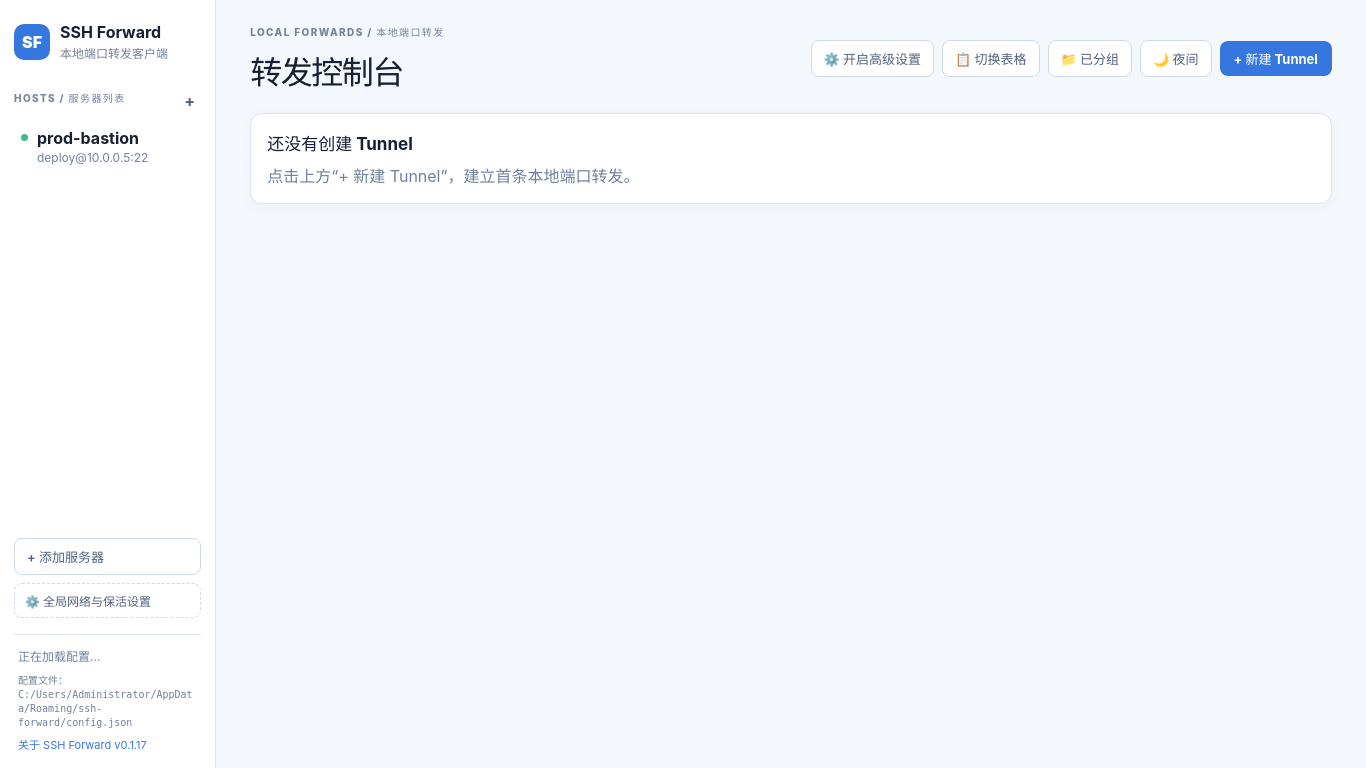
Test: 对话框语义与键盘操作 › 弹窗暴露 dialog 语义、aria-modal，并以标题作为可访问名
The width and height of the screenshot is (1366, 768).
Check: the text "prod-bastion" is shown, box [37,128,148,148]
Click the button "prod-bastion deploy@10.0.0.5:22".
click(108, 146)  # box [14,119,201,174]
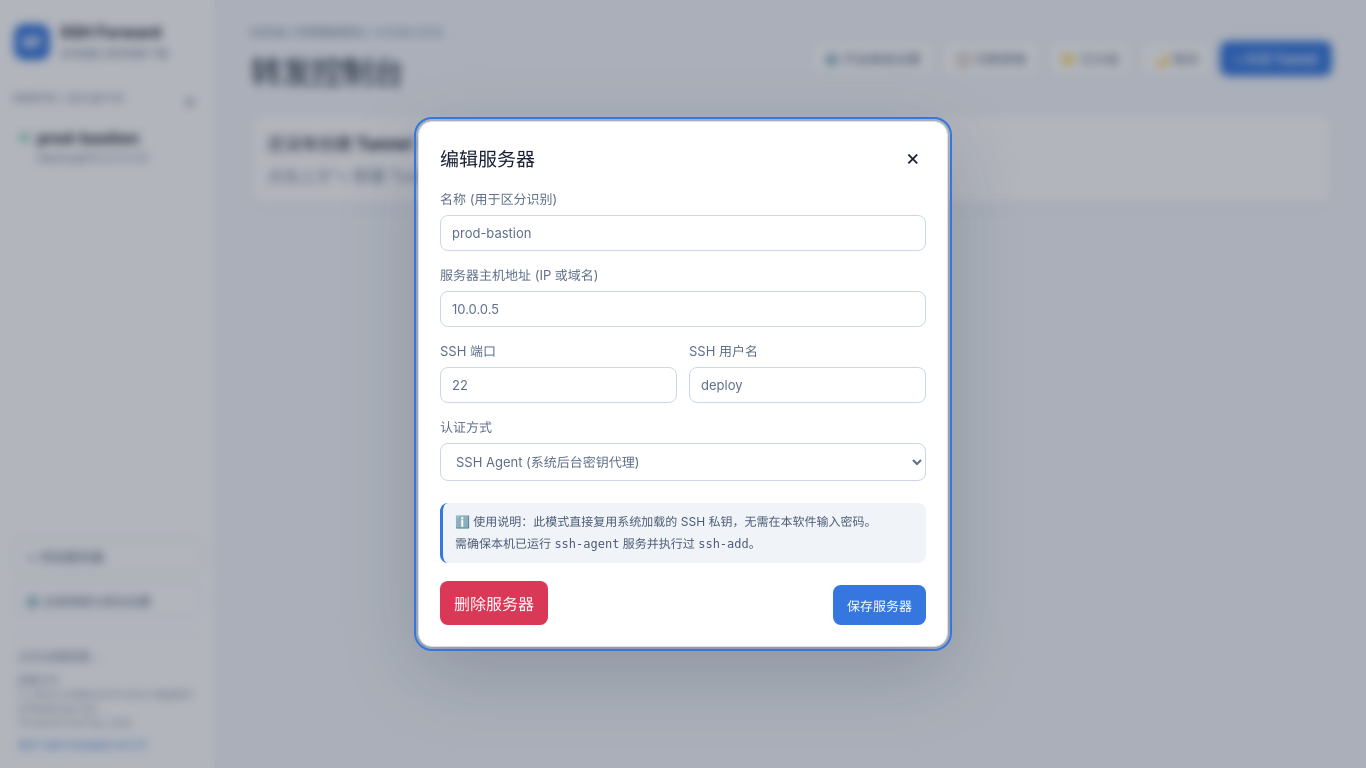
Check: the heading "编辑服务器" is shown, box [440,144,535,170]
